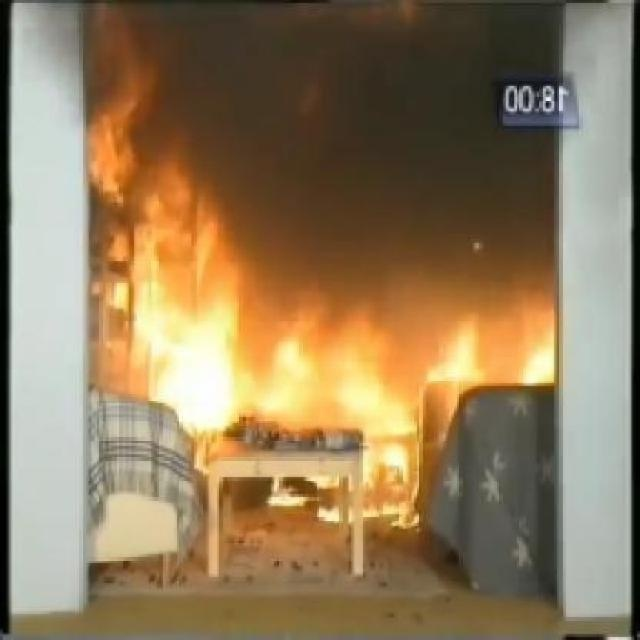fire: (81, 257, 545, 409)
smoke: (88, 6, 540, 249)
